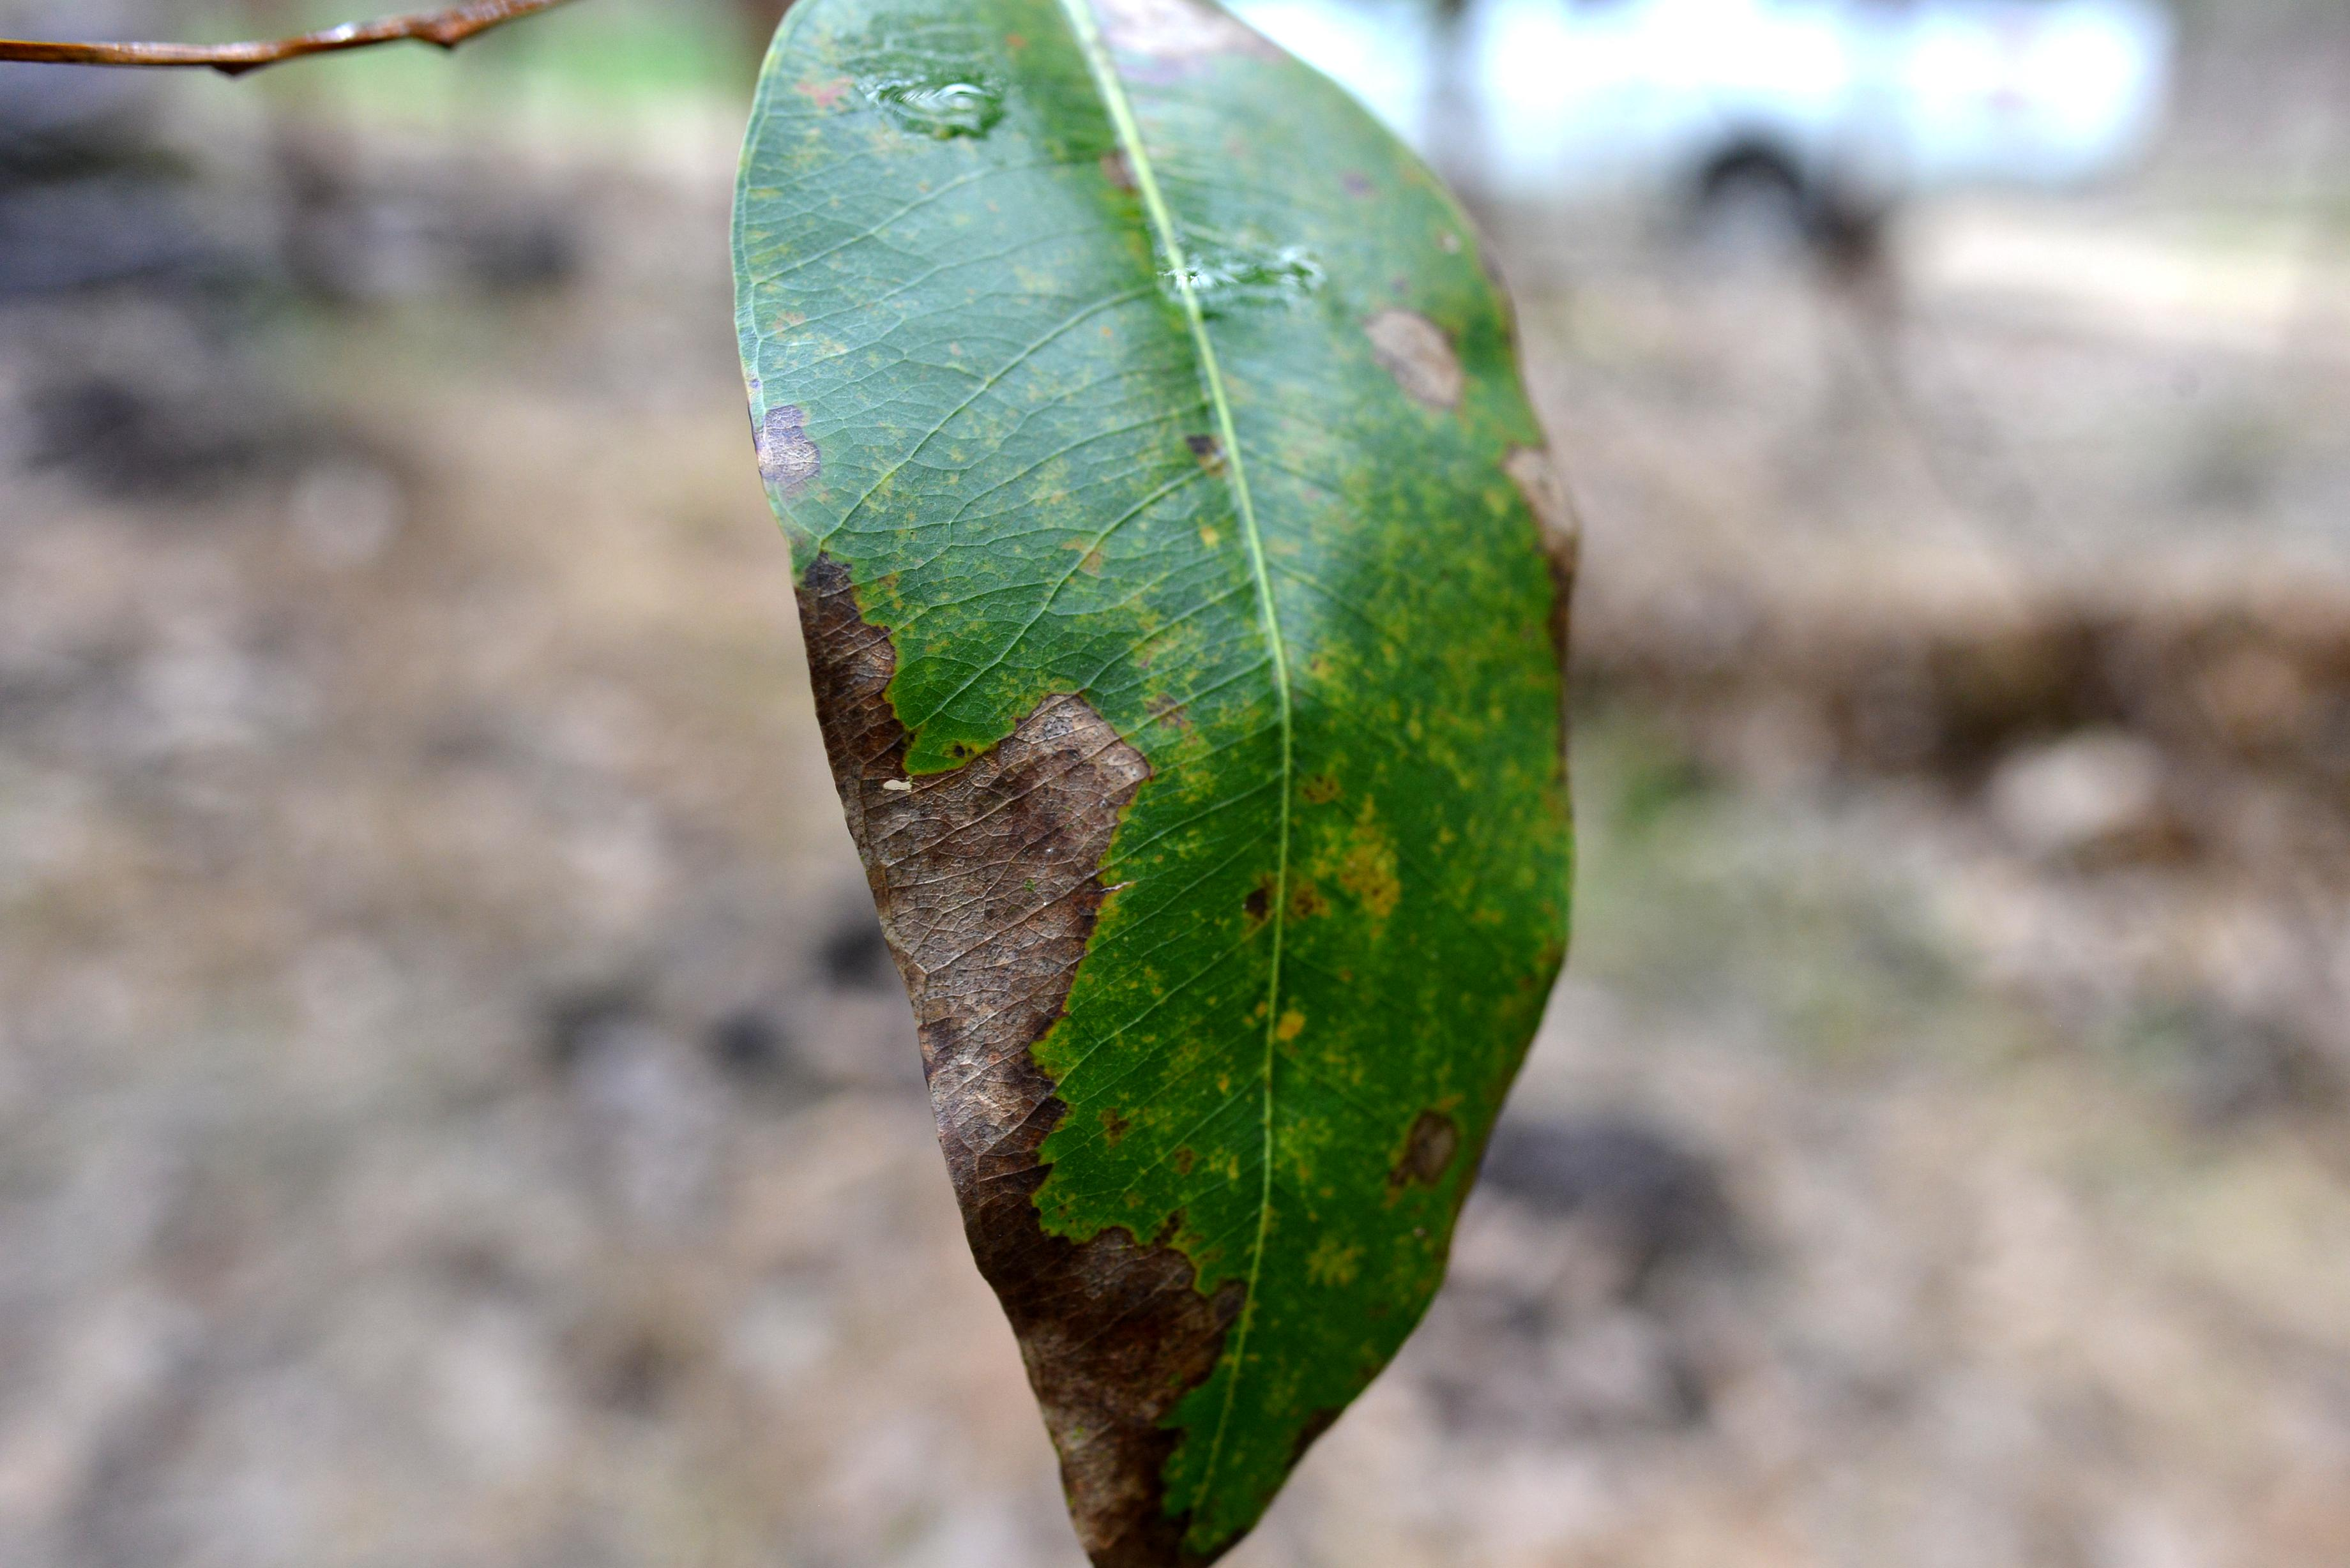Cylindrocladium: (731, 541, 1246, 1557), (1501, 444, 1575, 684), (1361, 304, 1468, 416), (1099, 0, 1256, 70)
